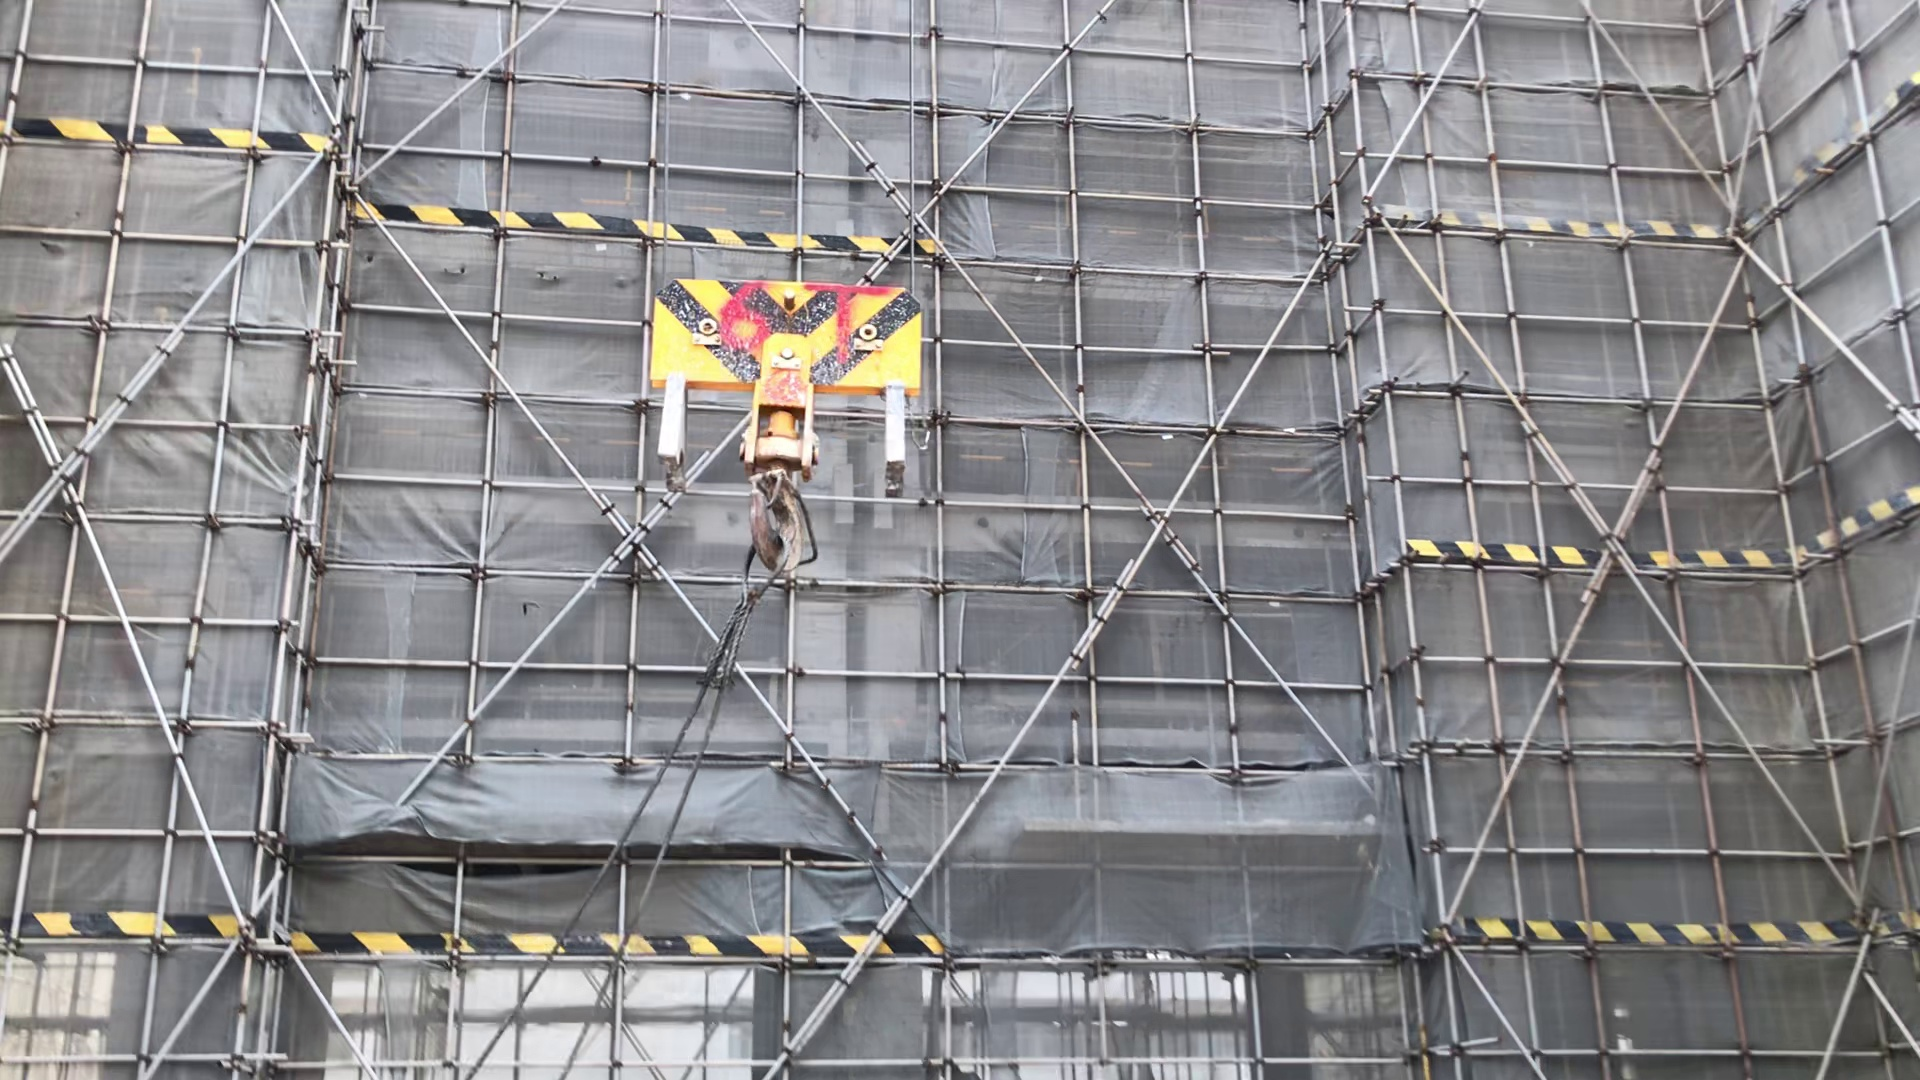hook: (633, 272, 922, 560)
